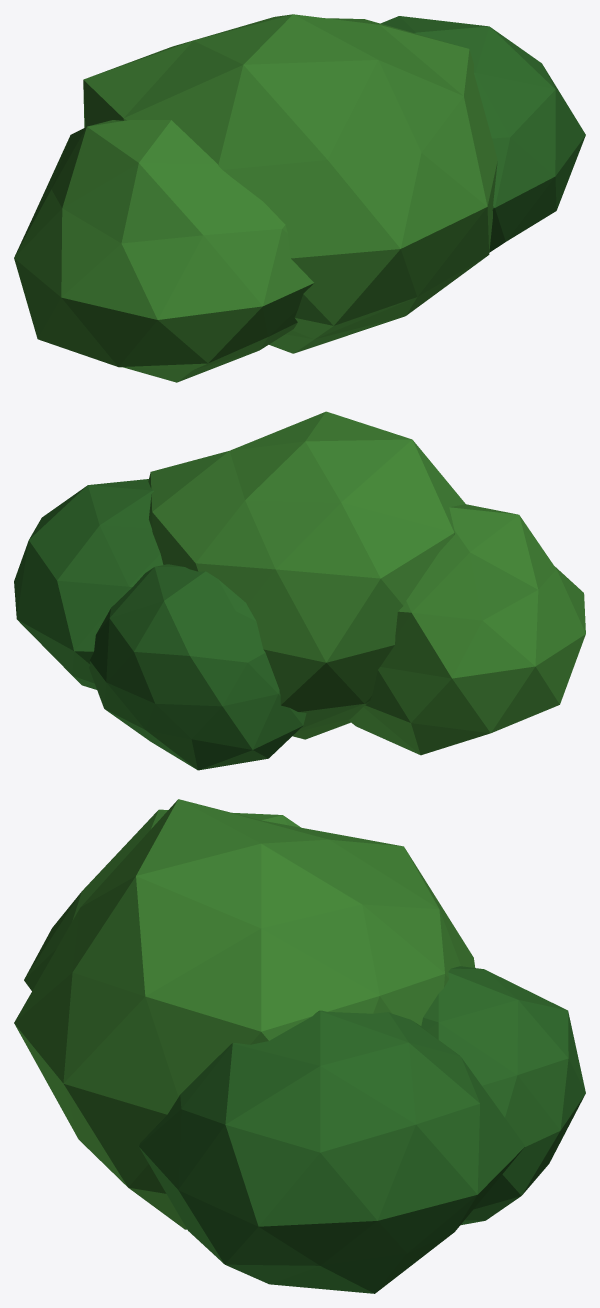
File: Bush.fbx
3 views of the same model, one above another, from view 1: azimuth 30°, elevation 25°; view 2: azimuth 150°, elevation 25°; view 3: azimuth 270°, elevation 25° (orthographic). The views are drawn at different scales.
Parts seen in each view (by area): view 1: Bush; view 2: Bush; view 3: Bush.
Part boxes in pixels (box(x1,y1,x2,y2)): Bush: box(14, 14, 585, 382); Bush: box(14, 411, 585, 770); Bush: box(14, 799, 585, 1293).
Size of the model in its own units: 1.91 by 1.09 by 1.45.
